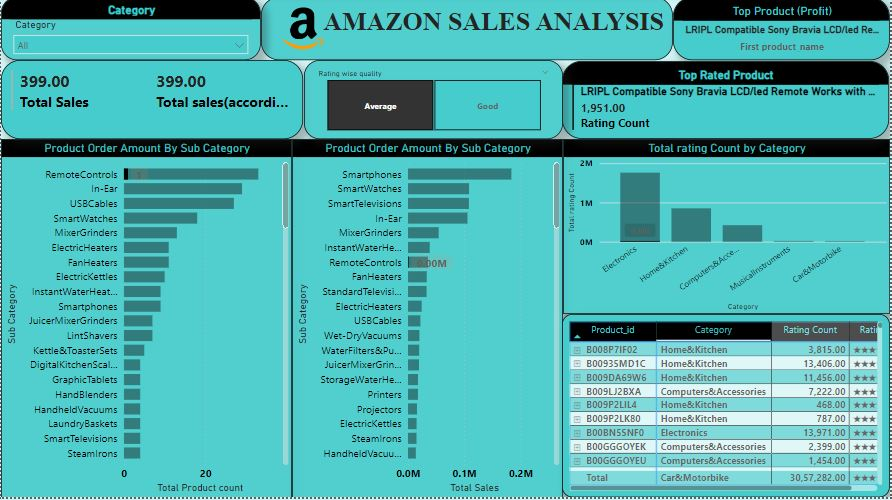

This screenshot's page, from the dashboard's own definition file:
{"tool":"powerbi","page":{"name":"Amazon salesboard","canvas":[1280,720],"ordinal":0},"visuals":[{"type":"textbox","box":[374.4,0,593.3,90.7],"z":0},{"type":"image","box":[398.9,10.1,70.6,70.6],"z":1000},{"type":"clusteredBarChart","title":"Product Order Amount By Sub Category","fields":{"Y":["amazon sales dataset project.Total Product count"],"Category":["amazon sales dataset project.Sub Category"]},"box":[0,204.5,419,515.5],"z":2000},{"type":"clusteredBarChart","title":"Product Order Amount By Sub Category","fields":{"Y":["amazon sales dataset project.Total Sales"],"Category":["amazon sales dataset project.Sub Category"]},"box":[419,204.5,390.2,515.5],"z":3000},{"type":"slicer","title":"Category","fields":{"Values":["amazon sales dataset project.Category"]},"box":[0,0,374.4,90.7],"z":4000},{"type":"multiRowCard","fields":{"Values":["amazon sales dataset project.Total Sales","amazon sales dataset project.Total sales(according to dc price)"]},"box":[0,90.7,434.9,113.8],"z":5000},{"type":"card","title":"Top Product (Profit)","fields":{"Values":["Min(amazon sales dataset project.product_name)"]},"box":[967.7,0,312.5,90.7],"z":6000},{"type":"columnChart","fields":{"Category":["amazon sales dataset project.Category"],"Y":["amazon sales dataset project.Total rating Count"]},"box":[809.3,204.5,470.9,252],"z":7000},{"type":"multiRowCard","title":"Top Rated Product","fields":{"Values":["amazon sales dataset project.product_name","Sum(amazon sales dataset project.rating_count)"]},"box":[807.8,92.2,470.9,112.3],"z":8000},{"type":"pivotTable","fields":{"Rows":["amazon sales dataset project.product_id","amazon sales dataset project.product_name"],"Values":["Min(amazon sales dataset project.Category)","Sum(amazon sales dataset project.rating_count)","amazon sales dataset project.Max of rating_count star rating"]},"box":[807.8,456.5,472.3,263.5],"z":8001},{"type":"slicer","fields":{"Values":["amazon sales dataset project.Rating wise quality"]},"box":[436.3,90.7,373,113.8],"z":8002}]}

Visuals, with their boxes in screenshot pixels (x1, y1, x2, y2), scaled from the page's 1280x720 canvas onto the 892x500 screenshot:
textbox: Rect(261, 0, 674, 63)
image: Rect(278, 7, 327, 56)
"Product Order Amount By Sub Category" clusteredBarChart: Rect(0, 142, 292, 499)
"Product Order Amount By Sub Category" clusteredBarChart: Rect(292, 142, 564, 499)
"Category" slicer: Rect(0, 0, 261, 63)
multiRowCard - amazon sales dataset project.Total Sales x amazon sales dataset project.Total sales(according to dc price): Rect(0, 63, 303, 142)
"Top Product (Profit)" card: Rect(674, 0, 891, 63)
columnChart - amazon sales dataset project.Category x amazon sales dataset project.Total rating Count: Rect(564, 142, 891, 317)
"Top Rated Product" multiRowCard: Rect(563, 64, 891, 142)
pivotTable - amazon sales dataset project.product_id x amazon sales dataset project.product_name: Rect(563, 317, 891, 499)
slicer - amazon sales dataset project.Rating wise quality: Rect(304, 63, 564, 142)
